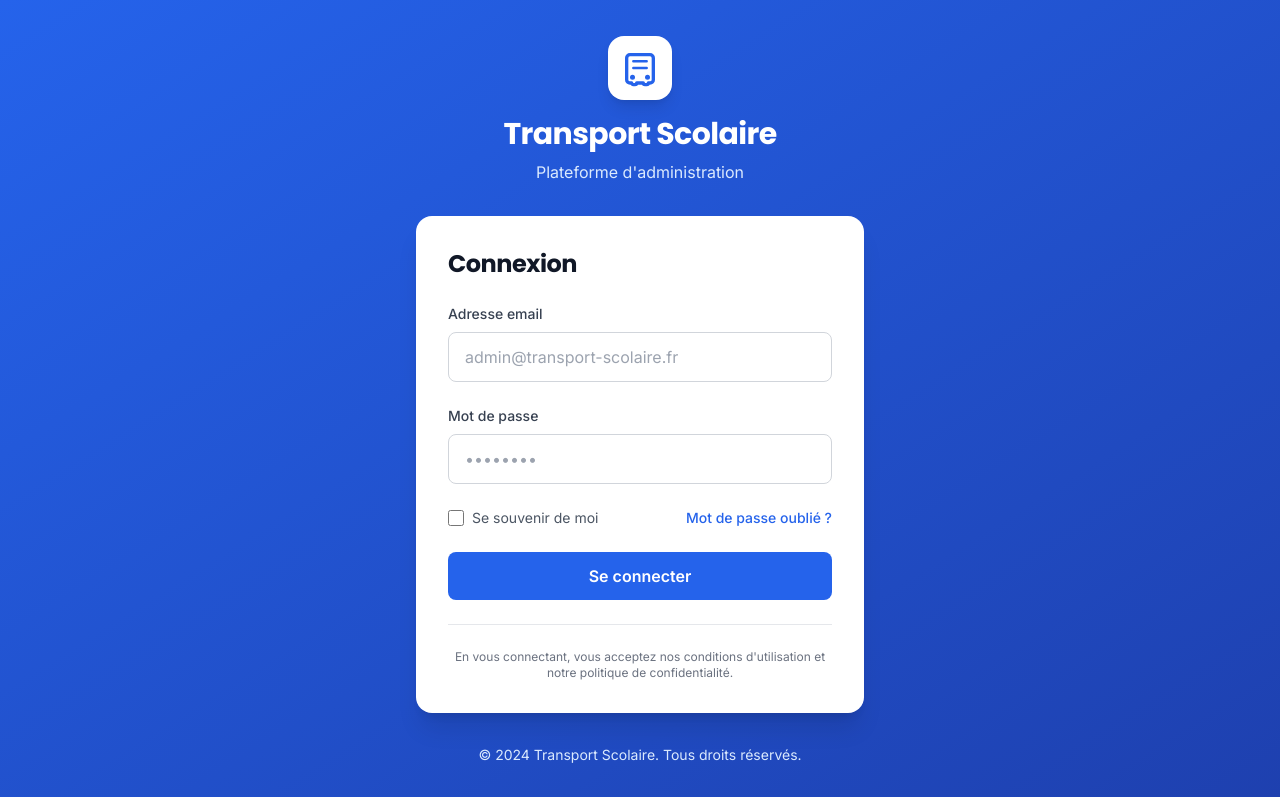
Test: LoginPage › valide le format de l'email
This screenshot has width=1280, height=797.
In the field labelled "Adresse email": (640, 356) left=448, top=332, right=832, bottom=382, type "invalidemail"
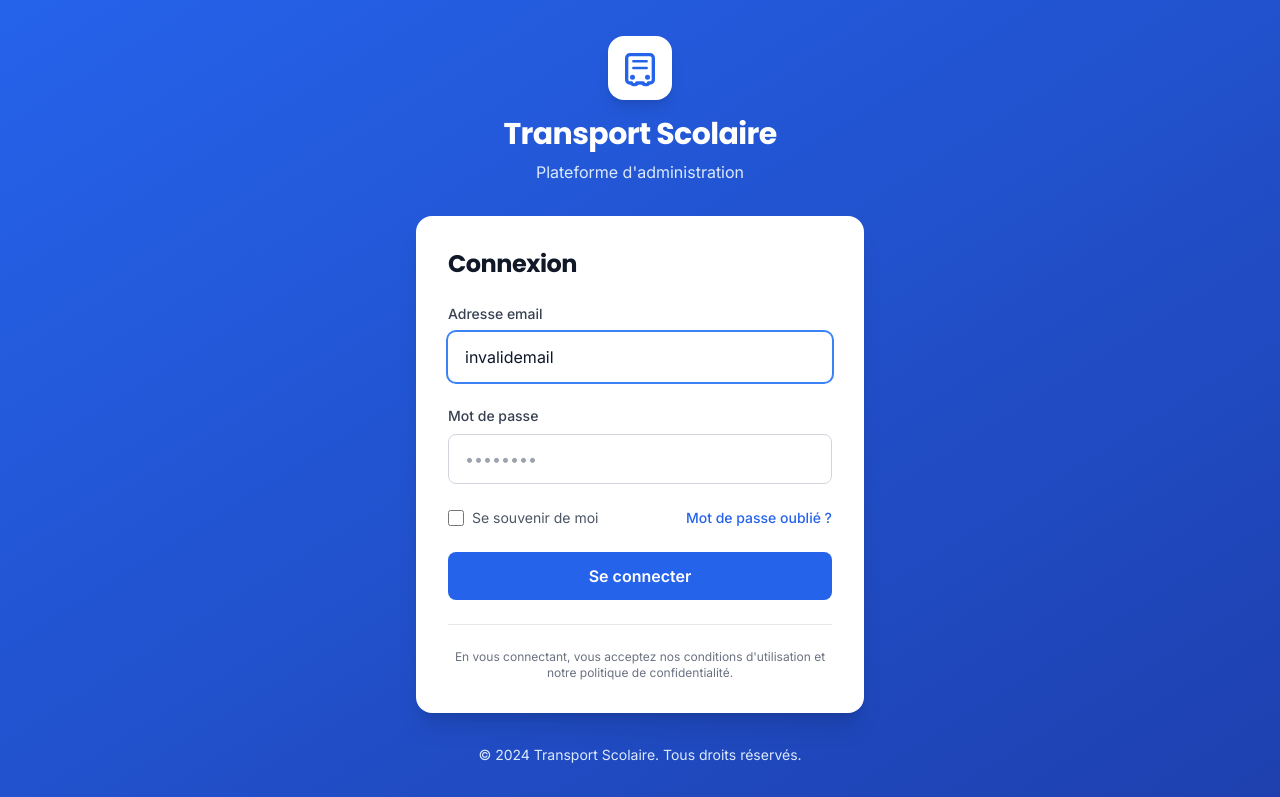
In the password field labelled "Mot de passe": (640, 458) left=448, top=434, right=832, bottom=484, type "password123"
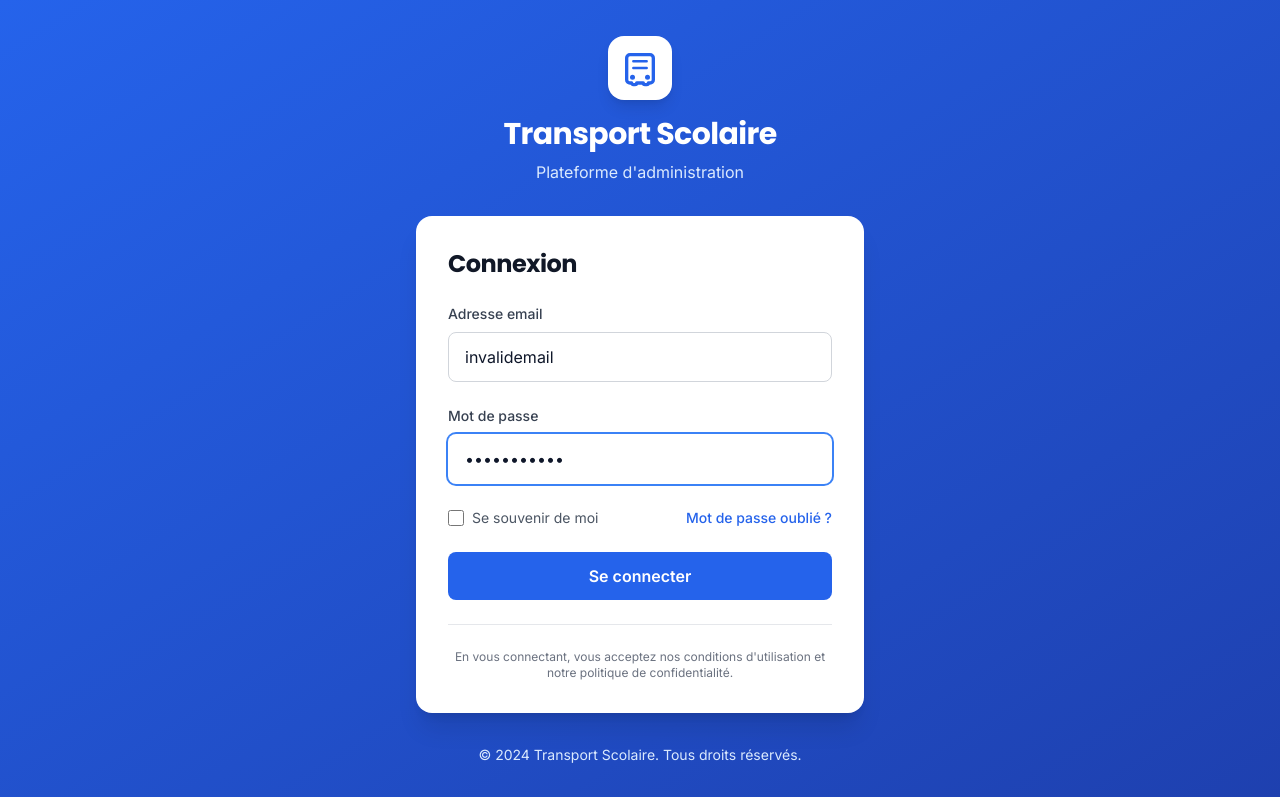
Click the button "Se connecter": (640, 576) left=448, top=552, right=832, bottom=600
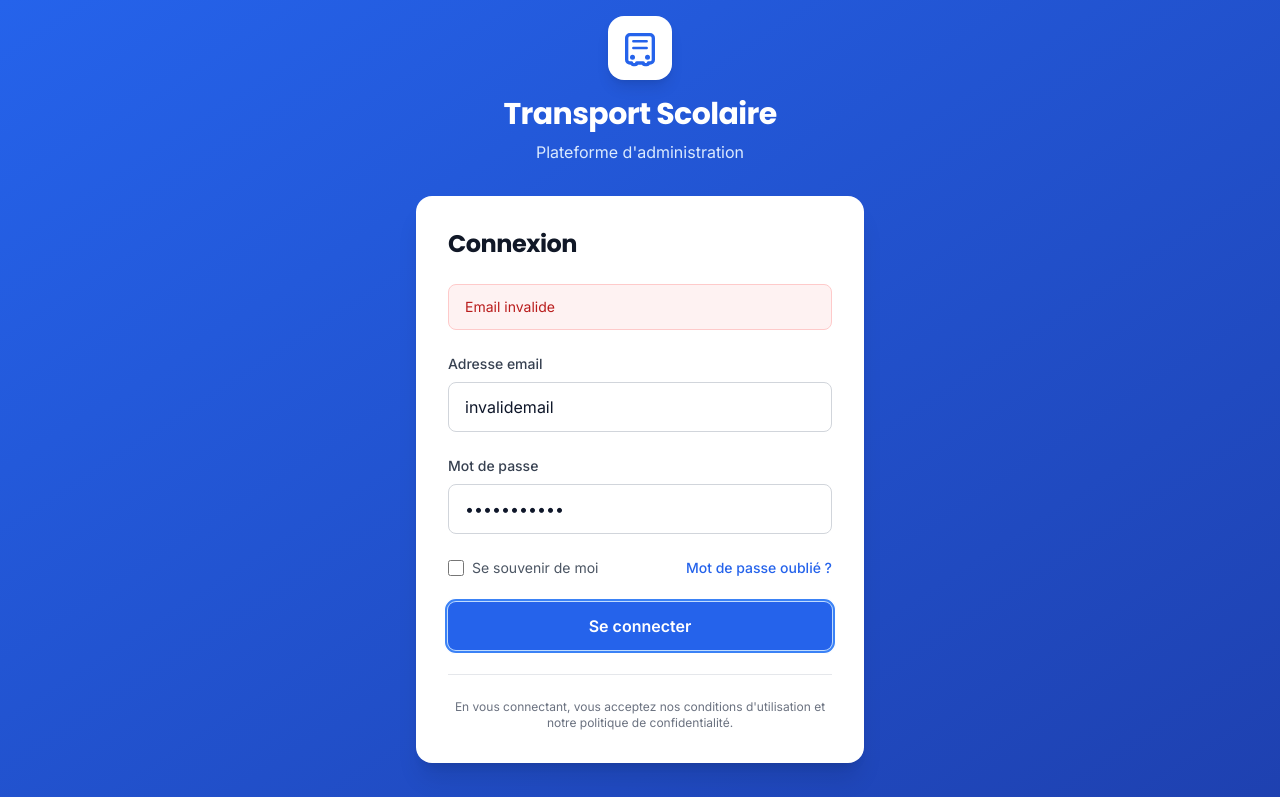
Check: the text "Email invalide" is shown, box left=465, top=298, right=555, bottom=315
